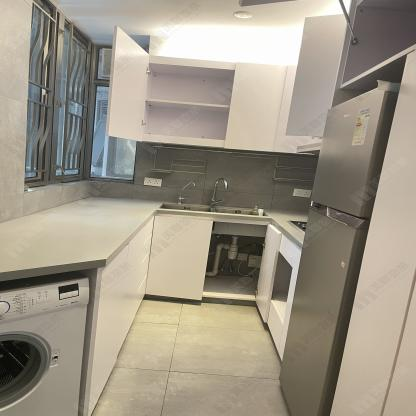Cupboard: (90, 210, 219, 412), (141, 56, 287, 154)
Faucet: (174, 178, 197, 205), (211, 175, 228, 207)
Fridge: (278, 86, 394, 415)
Sink: (155, 203, 274, 217)
Washing Machine: (0, 277, 90, 416)
